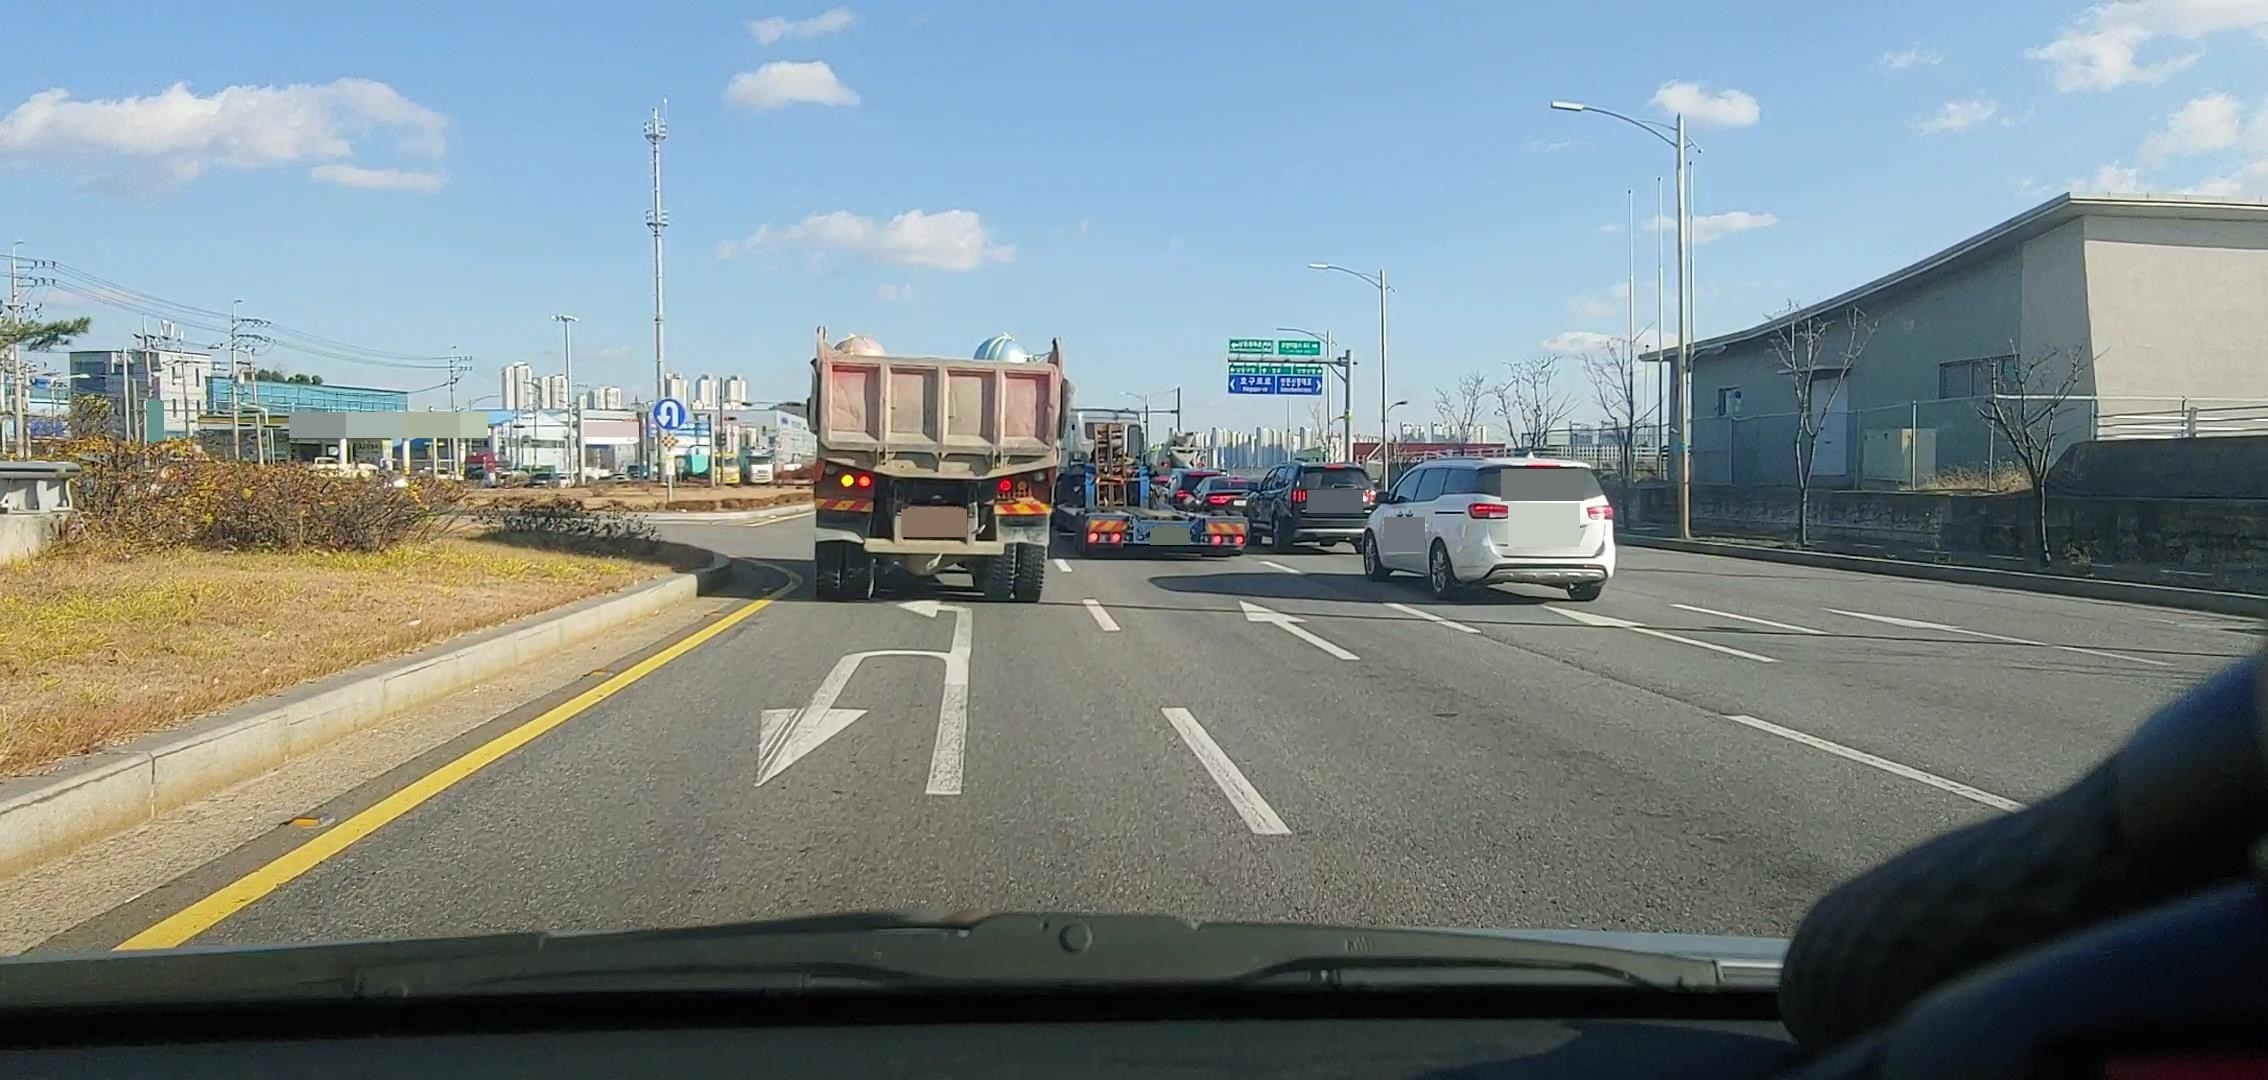불법차량: (804, 323, 1077, 604)
